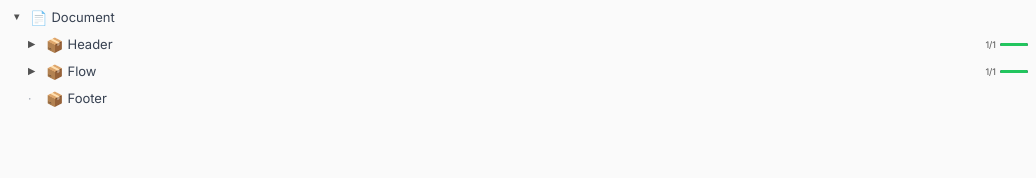
StructureTree › renders binding indicator for nodes with binding
The image size is (1036, 178).
Expected: the list item with class "structure-tree-node" showing "▶ 📦 Header 1/1" is shown, [12,31,1035,58]
Click the element with class "structure-tree-node__toggle" next to "Header": click(32, 44) [28,38,35,49]
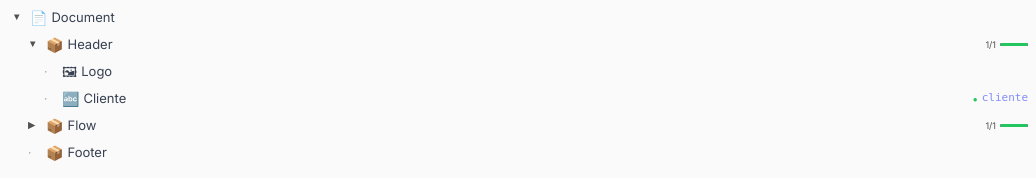
Now the text "Cliente" is shown, box [84,90,126,106]
